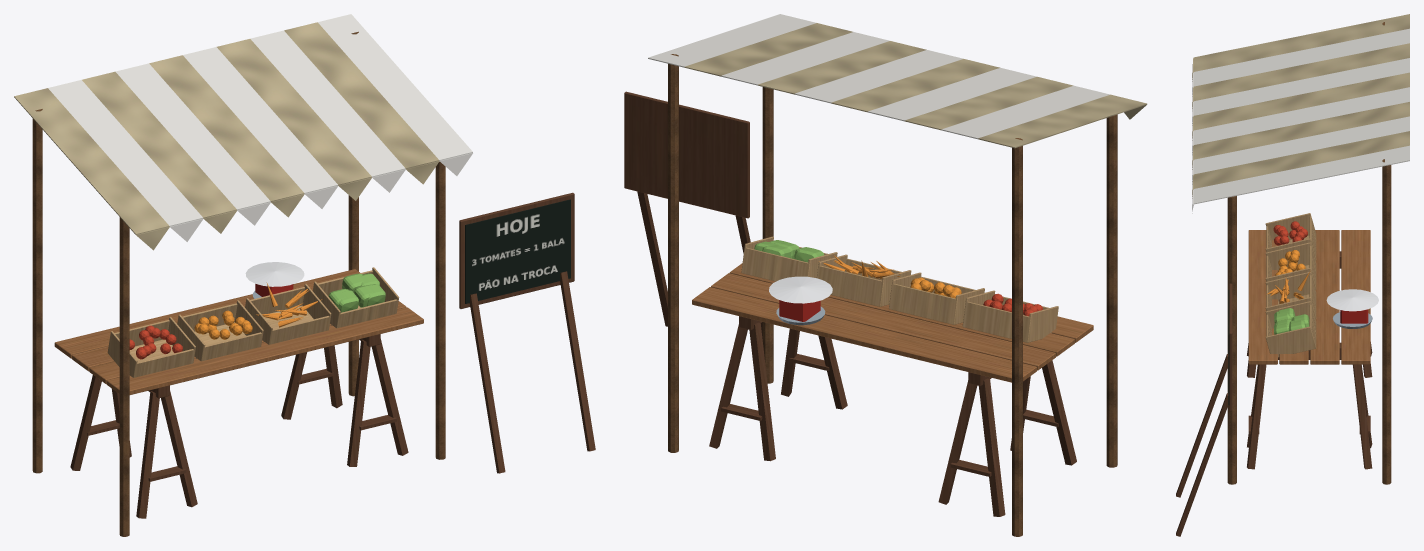
Rendered from banca_feira.glb.
3 views of the same model, side by side, from view 1: azimuth 30°, elevation 25°; view 2: azimuth 150°, elevation 25°; view 3: azimuth 270°, elevation 25° (orthographic). The views are drawn at different scales.
Parts seen in each view (by area): view 1: banca_feira_lona_crua, banca_feira_lona_listrada, banca_feira_madeira_escura, banca_feira_madeira_lenha, banca_feira_madeira_crua, banca_feira_madeira, banca_feira_lousa_feira, banca_feira_alface, banca_feira_aco_polido, banca_feira_laranja, banca_feira_tomate, banca_feira_cenoura; view 2: banca_feira_madeira_escura, banca_feira_madeira_lenha, banca_feira_lona_crua, banca_feira_lona_listrada, banca_feira_madeira, banca_feira_madeira_crua, banca_feira_aco_polido, banca_feira_alface, banca_feira_tinta_vermelha, banca_feira_cenoura; view 3: banca_feira_lona_listrada, banca_feira_lona_crua, banca_feira_madeira, banca_feira_madeira_lenha, banca_feira_madeira_crua, banca_feira_madeira_escura, banca_feira_aco_polido, banca_feira_alface, banca_feira_tomate, banca_feira_laranja, banca_feira_tinta_vermelha, banca_feira_cenoura.
Part boxes in pixels (left/top/right/bottom): banca_feira_lona_crua: left=14, top=22, right=439, bottom=250; banca_feira_lona_listrada: left=48, top=14, right=472, bottom=241; banca_feira_madeira_escura: left=70, top=192, right=595, bottom=518; banca_feira_madeira_lenha: left=32, top=31, right=445, bottom=536; banca_feira_madeira_crua: left=107, top=267, right=399, bottom=377; banca_feira_madeira: left=54, top=269, right=423, bottom=394; banca_feira_lousa_feira: left=465, top=199, right=570, bottom=303; banca_feira_alface: left=328, top=273, right=385, bottom=312; banca_feira_aco_polido: left=245, top=262, right=304, bottom=286; banca_feira_laranja: left=194, top=310, right=252, bottom=339; banca_feira_tomate: left=129, top=325, right=182, bottom=359; banca_feira_cenoura: left=255, top=282, right=322, bottom=327; banca_feira_madeira_escura: left=624, top=91, right=1076, bottom=516; banca_feira_madeira_lenha: left=668, top=54, right=1117, bottom=536; banca_feira_lona_crua: left=684, top=23, right=1147, bottom=148; banca_feira_lona_listrada: left=648, top=14, right=1109, bottom=139; banca_feira_madeira: left=692, top=263, right=1093, bottom=382; banca_feira_madeira_crua: left=741, top=236, right=1058, bottom=342; banca_feira_aco_polido: left=769, top=276, right=832, bottom=303; banca_feira_alface: left=754, top=240, right=824, bottom=262; banca_feira_tinta_vermelha: left=779, top=300, right=820, bottom=321; banca_feira_cenoura: left=819, top=255, right=900, bottom=278; banca_feira_lona_listrada: left=1192, top=28, right=1409, bottom=213; banca_feira_lona_crua: left=1192, top=14, right=1409, bottom=198; banca_feira_madeira: left=1248, top=230, right=1370, bottom=364; banca_feira_madeira_lenha: left=1227, top=22, right=1391, bottom=484; banca_feira_madeira_crua: left=1265, top=213, right=1316, bottom=357; banca_feira_madeira_escura: left=1176, top=251, right=1372, bottom=536; banca_feira_aco_polido: left=1326, top=289, right=1378, bottom=311; banca_feira_alface: left=1274, top=308, right=1309, bottom=334; banca_feira_tomate: left=1273, top=221, right=1307, bottom=245; banca_feira_laranja: left=1275, top=250, right=1305, bottom=275; banca_feira_tinta_vermelha: left=1340, top=309, right=1368, bottom=323; banca_feira_cenoura: left=1266, top=271, right=1310, bottom=304.
Size of the model in its own units: 3.05 by 2.34 by 1.51.
14 materials, 6 textured.
